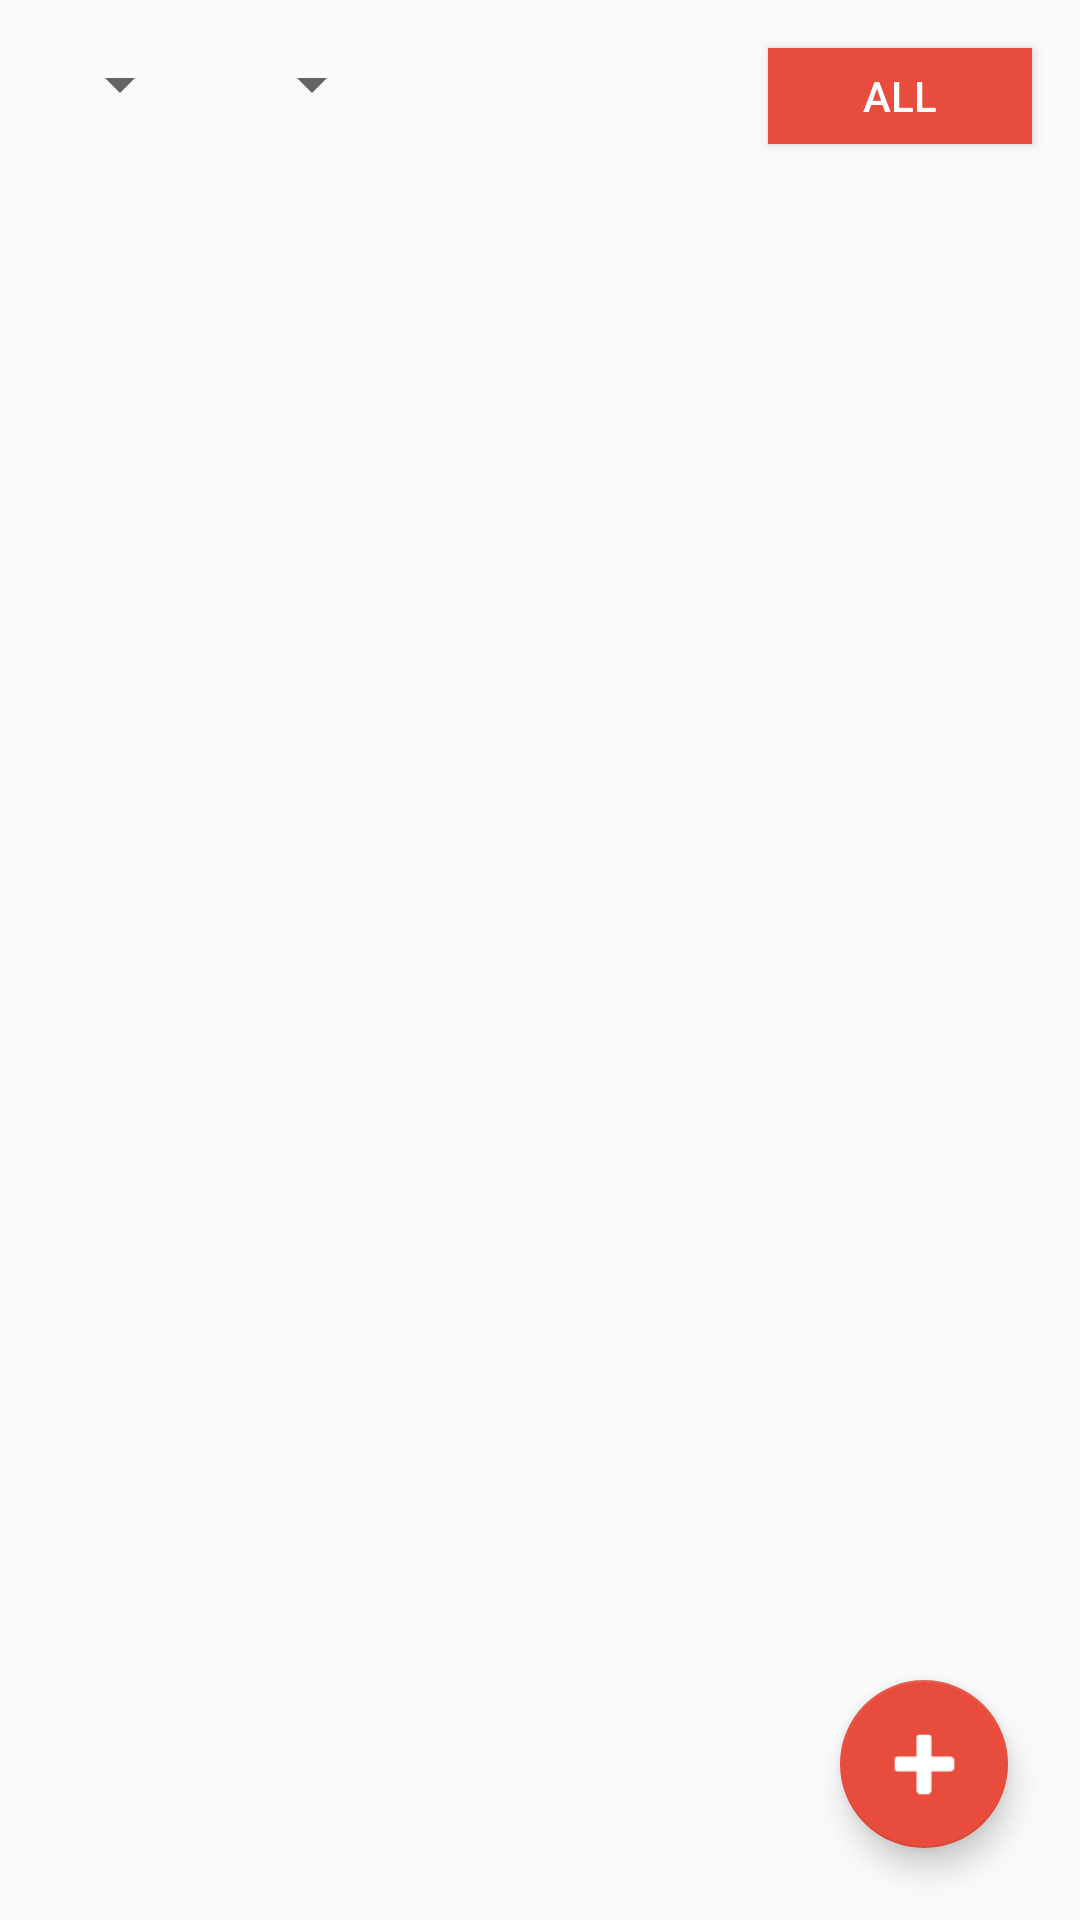

Locate icon controls on the screen. Image size 1080w x 1920h, boxes as box=[x1, y1, x2, y2].
plus: box=[840, 1680, 1008, 1848]
